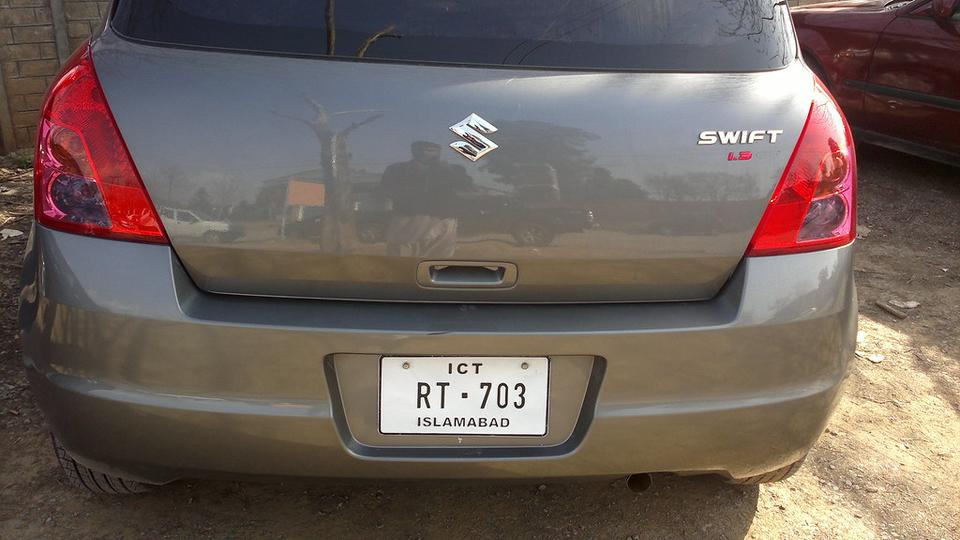NumberPlate: (371, 352, 564, 439)
